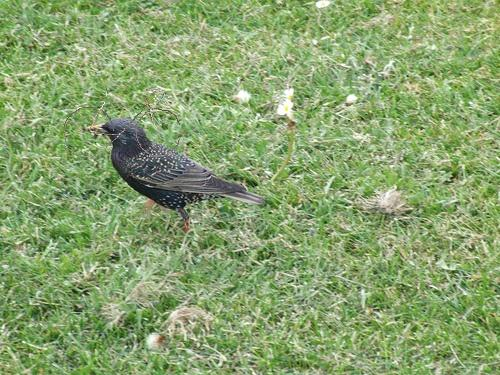tampered: (65, 90, 180, 157)
